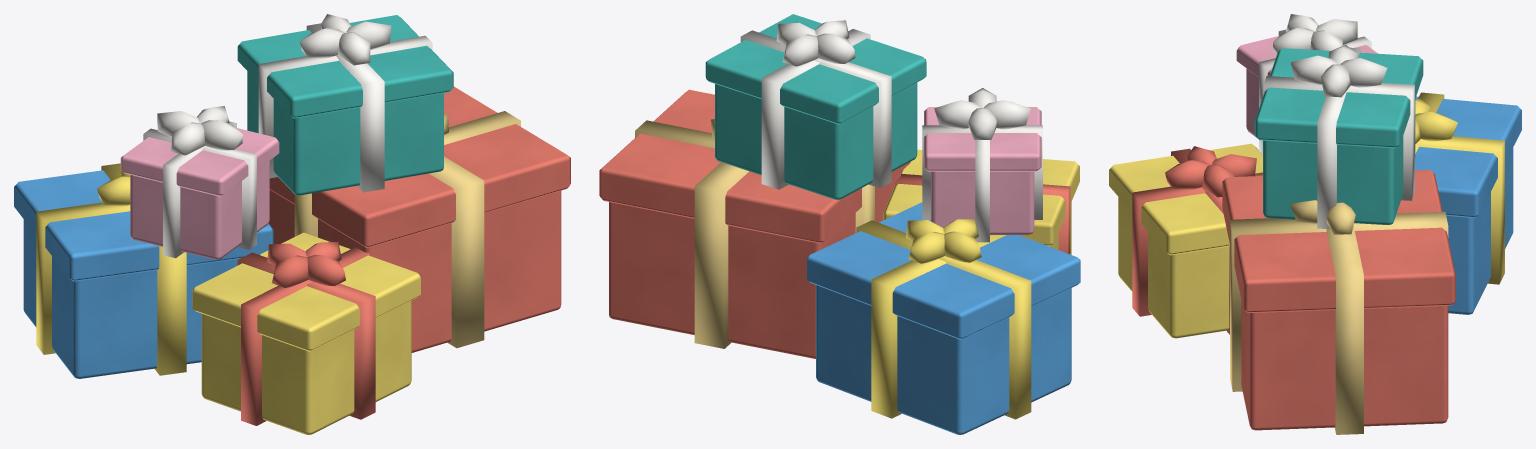
Rendered from Sorteio_GiftBoxes.fbx.
3 views of the same model, side by side, from view 1: azimuth 30°, elevation 25°; view 2: azimuth 150°, elevation 25°; view 3: azimuth 270°, elevation 25° (orthographic).
Visible parts, largest first — view 1: Sorteio_GiftBoxes; view 2: Sorteio_GiftBoxes; view 3: Sorteio_GiftBoxes.
Boxes of the visible parts, left/top/right/bottom form: Sorteio_GiftBoxes: left=14, top=14, right=570, bottom=434; Sorteio_GiftBoxes: left=599, top=14, right=1080, bottom=434; Sorteio_GiftBoxes: left=1109, top=14, right=1521, bottom=434.
Bounding box in the file's own units: 1.09 × 0.684 × 0.8703.
Materials: 1 (1 with a texture image).
